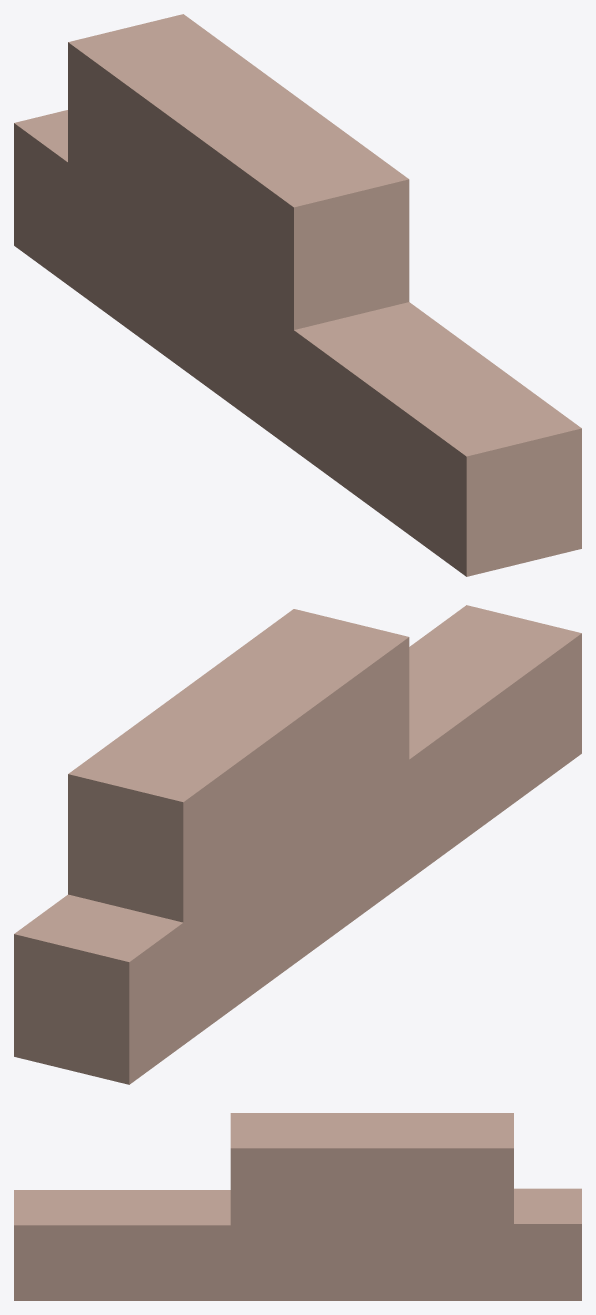
File: murek_1.obj
3 renders of one model, top to bottom at view 1: azimuth 30°, elevation 25°; view 2: azimuth 150°, elevation 25°; view 3: azimuth 270°, elevation 25°, orthographic. The views are drawn at different scales.
Visible parts, largest first — view 1: Vert.004; view 2: Vert.004; view 3: Vert.004.
Part boxes in pixels (x1=…): Vert.004: x1=14, y1=14, x2=581, y2=576; Vert.004: x1=14, y1=605, x2=581, y2=1084; Vert.004: x1=14, y1=1113, x2=581, y2=1300.
Bounding box in the file's own units: 1.04 × 2.09 × 7.04.
